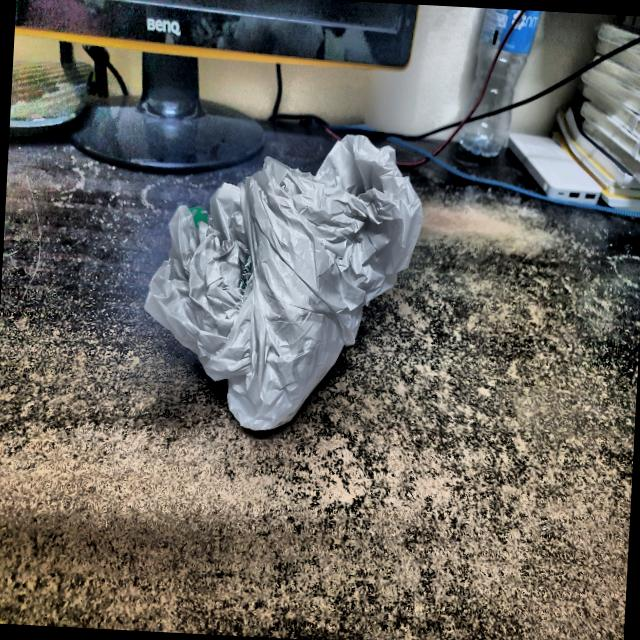plastic bag: (116, 107, 441, 456)
